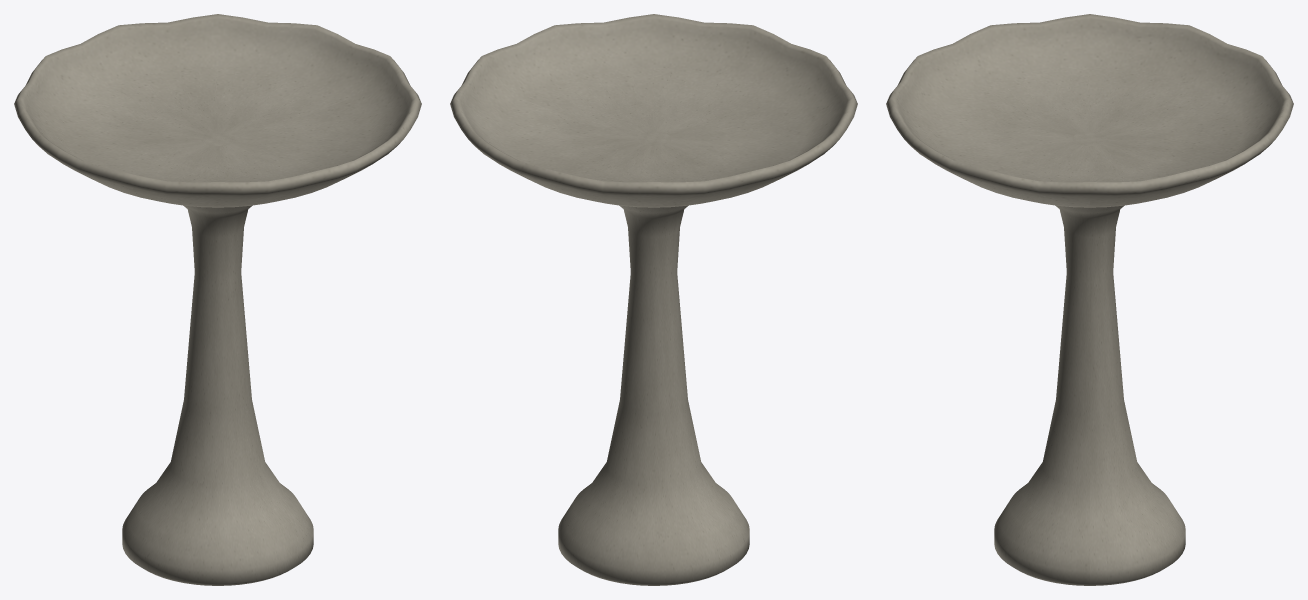
Rendered from pedestal_birdbath_LOD1.glb.
The picture shows the model from 3 angles, left to right: view 1: azimuth 30°, elevation 25°; view 2: azimuth 150°, elevation 25°; view 3: azimuth 270°, elevation 25°; orthographic projection.
Visible parts, largest first — view 1: Monolithic_birdbath; view 2: Monolithic_birdbath; view 3: Monolithic_birdbath.
Part boxes in pixels (x1=…): Monolithic_birdbath: x1=14, y1=14, x2=421, y2=585; Monolithic_birdbath: x1=450, y1=14, x2=857, y2=585; Monolithic_birdbath: x1=886, y1=14, x2=1293, y2=585.
Bounding box in the file's own units: 0.562 × 0.685 × 0.562.
1 material, 1 textured.
